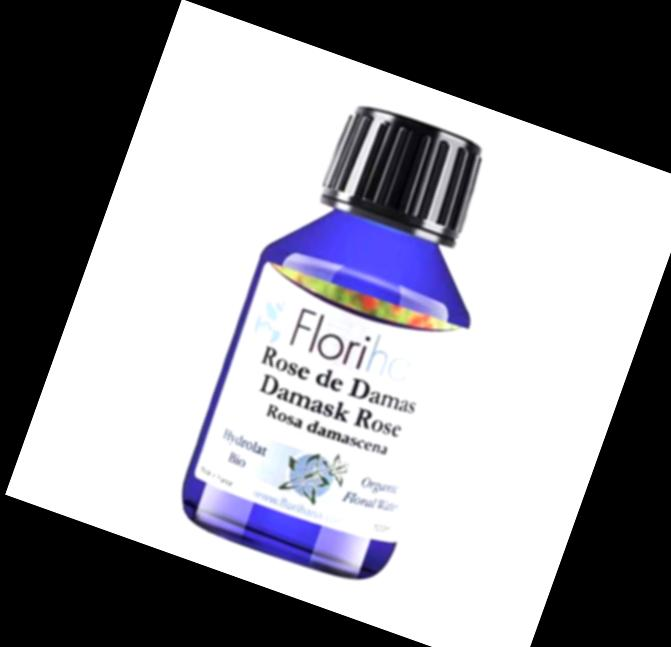cosmetic: (164, 82, 534, 591)
